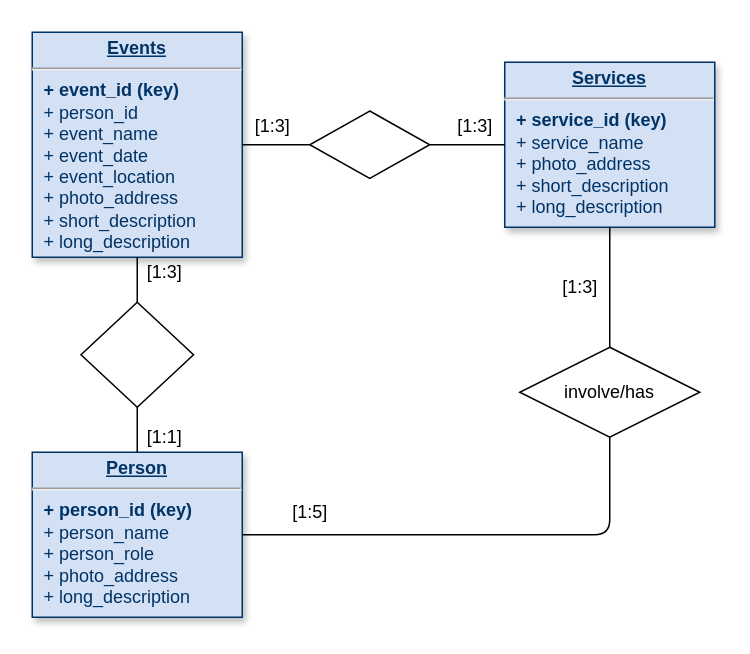
Some shapes in this 750 by 654 pixel diagram are drawn without their labels. The shapes that lost their labels are listed below. From the top down, each one's centre as x and y in pixels, then its label:
(369,144): present
(137,354): organize
